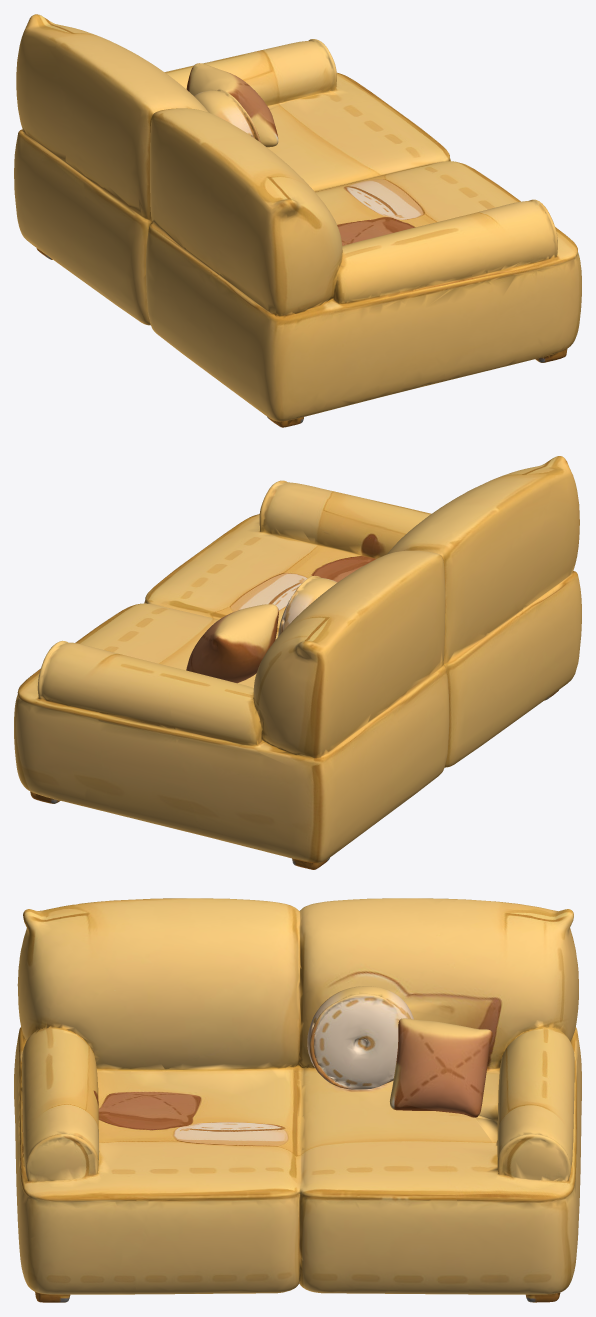
The model's file is sofa.glb.
3 views of the same model, one above another, from view 1: azimuth 30°, elevation 25°; view 2: azimuth 150°, elevation 25°; view 3: azimuth 270°, elevation 25° (orthographic). The views are drawn at different scales.
Parts seen in each view (by area): view 1: tripo_node_74e37878-e796-4a14-8a58-204931954e95; view 2: tripo_node_74e37878-e796-4a14-8a58-204931954e95; view 3: tripo_node_74e37878-e796-4a14-8a58-204931954e95.
Boxes of the visible parts, left/top/right/bottom form: tripo_node_74e37878-e796-4a14-8a58-204931954e95: left=14, top=14, right=581, bottom=427; tripo_node_74e37878-e796-4a14-8a58-204931954e95: left=14, top=456, right=581, bottom=869; tripo_node_74e37878-e796-4a14-8a58-204931954e95: left=14, top=898, right=581, bottom=1302.
Bounding box in the file's own units: 0.7106 × 0.4937 × 0.9996.
Materials: 1 (1 with a texture image).
